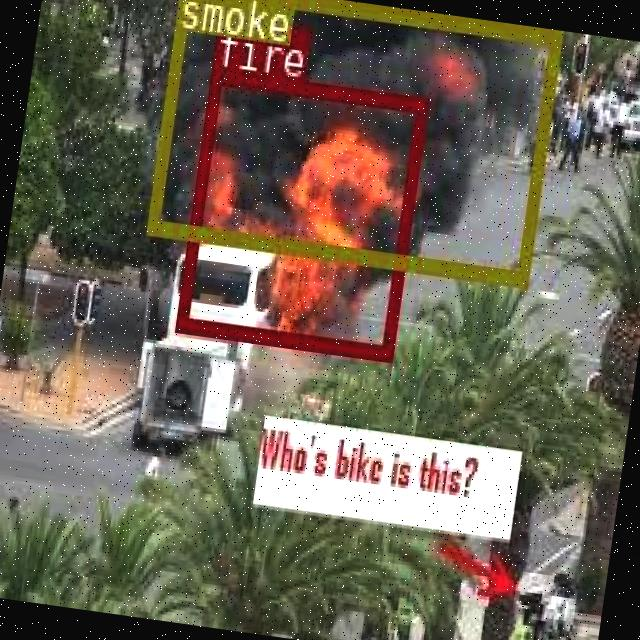fire: (174, 66, 426, 358)
smoke: (144, 0, 559, 285)
